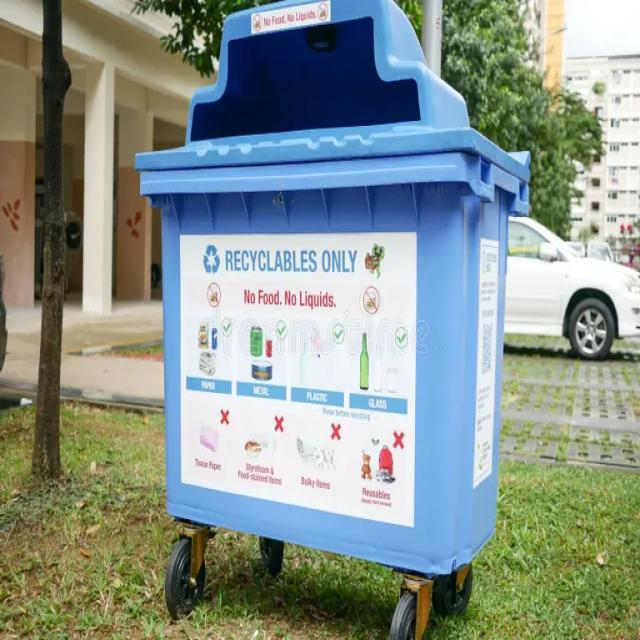bin_empty: (152, 7, 502, 580)
vehicle: (507, 217, 639, 360)
